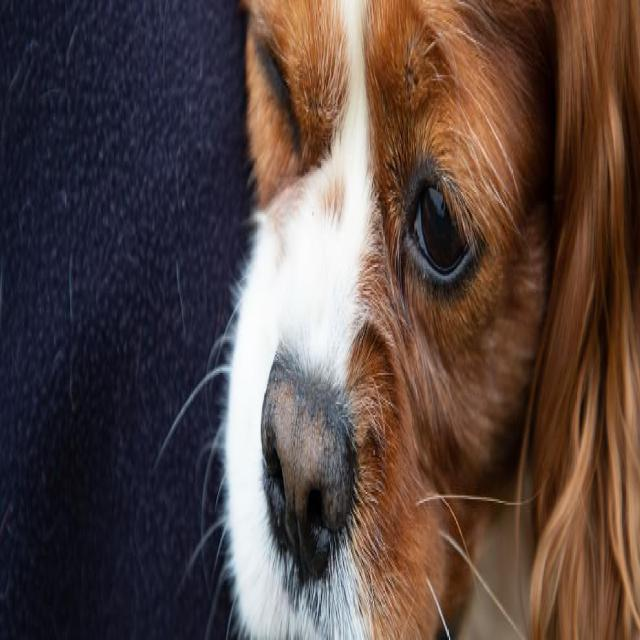Dog: (203, 0, 572, 640)
